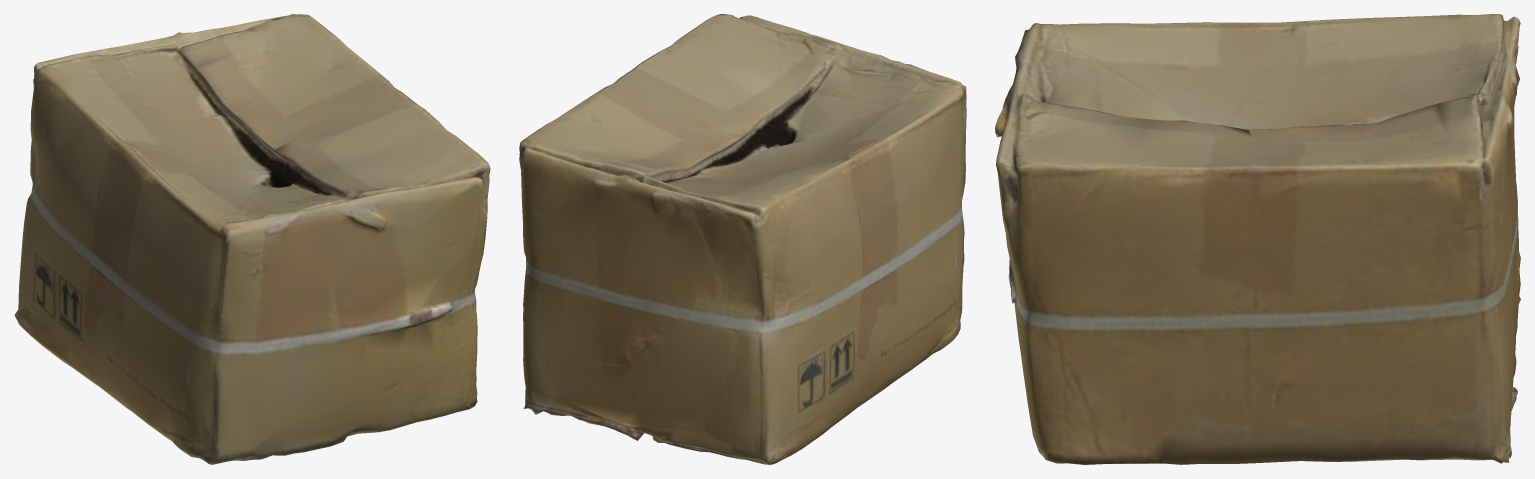
Rendered from caixa_papelao.glb.
The picture shows the model from 3 angles, left to right: view 1: azimuth 30°, elevation 25°; view 2: azimuth 150°, elevation 25°; view 3: azimuth 270°, elevation 25°; orthographic projection. The views are drawn at different scales.
Parts seen in each view (by area): view 1: cardboard_box_01; view 2: cardboard_box_01; view 3: cardboard_box_01.
Part boxes in pixels (x1,y1,x2,y2): cardboard_box_01: (14,14,490,464); cardboard_box_01: (519,14,966,464); cardboard_box_01: (995,14,1520,464).
Size of the model in its own units: 0.3869 by 0.3418 by 0.5159.
1 material, 1 textured.
